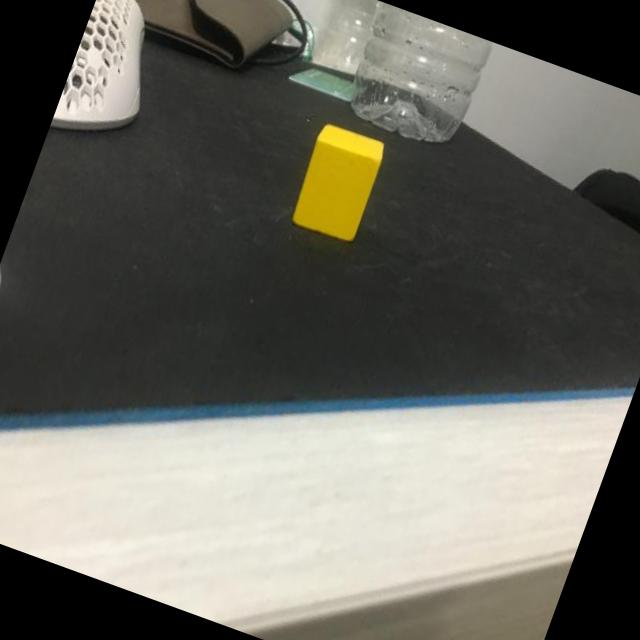yellow: (288, 122, 388, 244)
